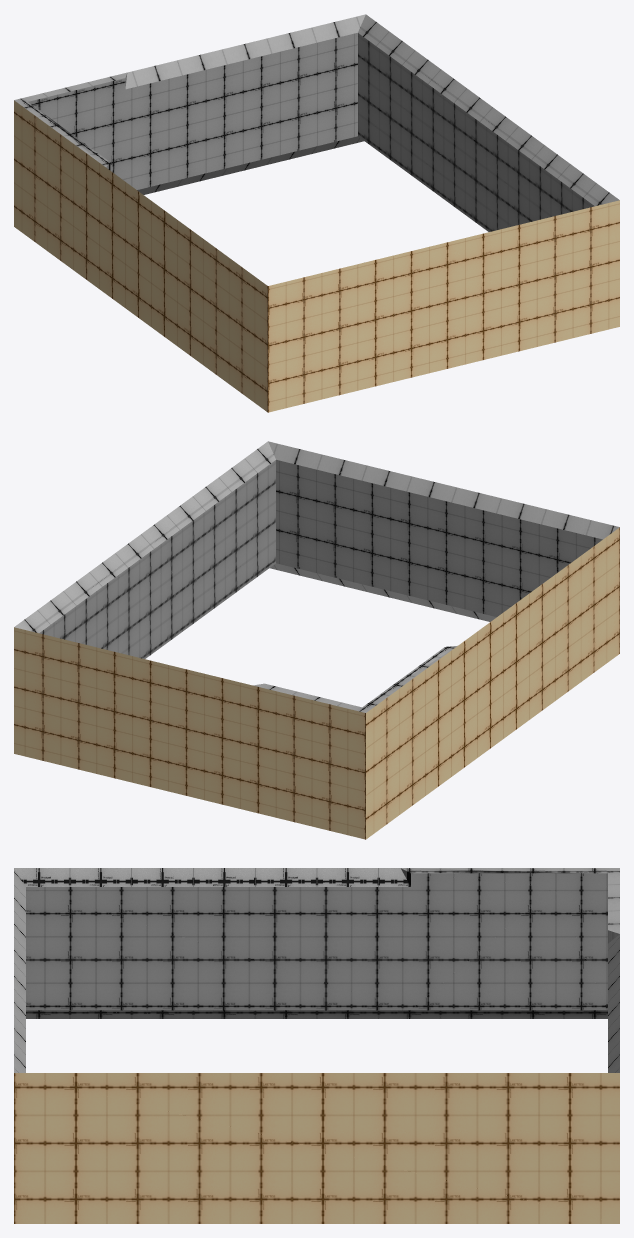
The model's file is Casa_INTERIOR_Planta_sotano.fbx.
3 renders of one model, top to bottom at view 1: azimuth 30°, elevation 25°; view 2: azimuth 150°, elevation 25°; view 3: azimuth 270°, elevation 25°, orthographic. The views are drawn at different scales.
Parts seen in each view (by area): view 1: Casa_INTERIOR_Planta_sotano; view 2: Casa_INTERIOR_Planta_sotano; view 3: Casa_INTERIOR_Planta_sotano.
Boxes of the visible parts, box(x1,y1,x2,y2) form: Casa_INTERIOR_Planta_sotano: box(14, 14, 619, 412); Casa_INTERIOR_Planta_sotano: box(14, 441, 619, 839); Casa_INTERIOR_Planta_sotano: box(14, 868, 619, 1223).
Bounding box in the file's own units: 10.38 × 3.57 × 12.97.
